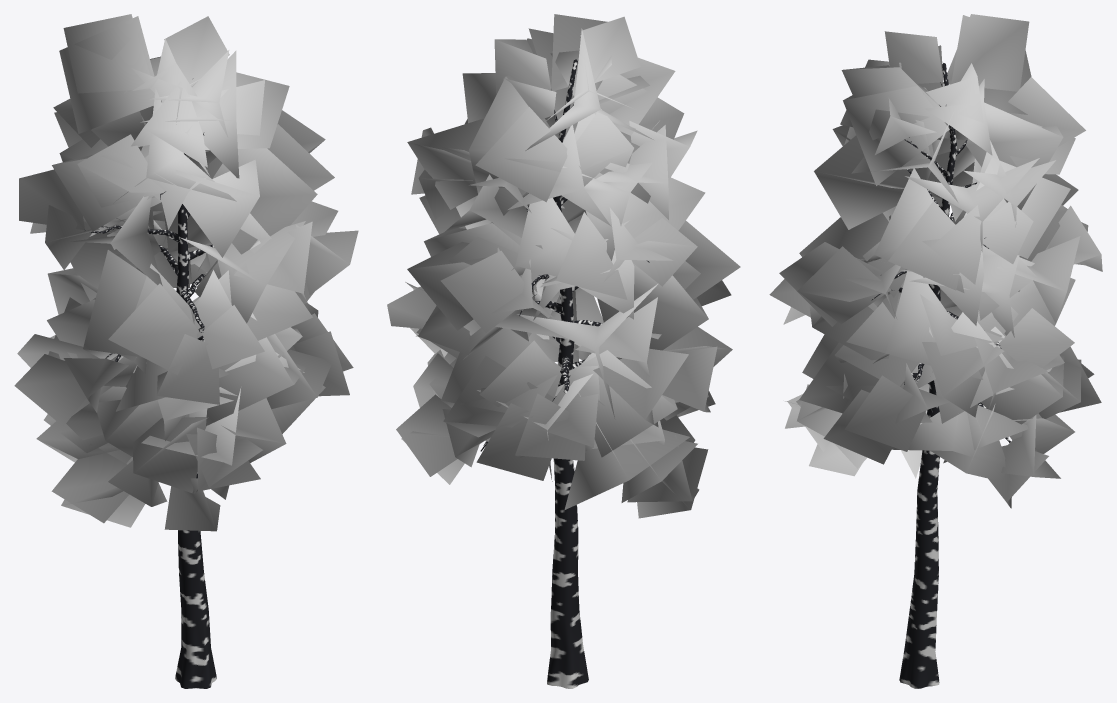
Rendered from BirchTree_01.fbx.
3 views of the same model, side by side, from view 1: azimuth 30°, elevation 25°; view 2: azimuth 150°, elevation 25°; view 3: azimuth 270°, elevation 25° (orthographic). The views are drawn at different scales.
Parts seen in each view (by area): view 1: BirchTree_01; view 2: BirchTree_01; view 3: BirchTree_01.
Boxes of the visible parts, box(x1,y1,x2,y2) form: BirchTree_01: box(14, 14, 358, 688); BirchTree_01: box(387, 14, 740, 688); BirchTree_01: box(769, 14, 1102, 688).
Bounding box in the file's own units: 3991 × 8488 × 3957.
